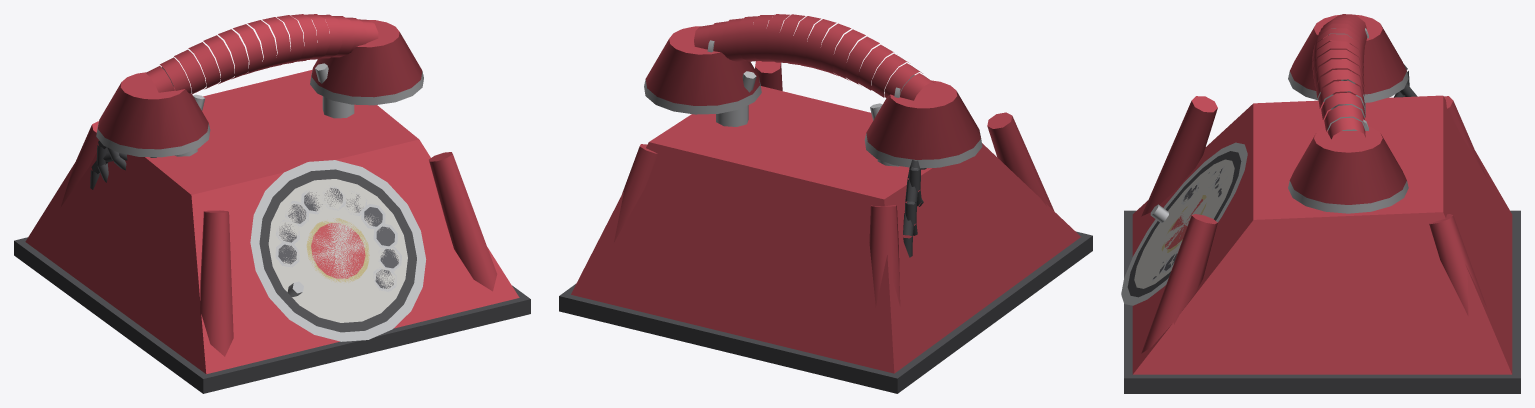
File: analog_phone.glb
3 views of the same model, side by side, from view 1: azimuth 30°, elevation 25°; view 2: azimuth 150°, elevation 25°; view 3: azimuth 270°, elevation 25° (orthographic). The views are drawn at different scales.
Visible parts, largest first — view 1: analog-phone-export; view 2: analog-phone-export; view 3: analog-phone-export.
Part boxes in pixels (x1,y1,x2,y2): analog-phone-export: (14, 14, 530, 393); analog-phone-export: (559, 14, 1092, 393); analog-phone-export: (1121, 14, 1520, 393).
Size of the model in its own units: 0.0023 by 0.00172 by 0.00232.
